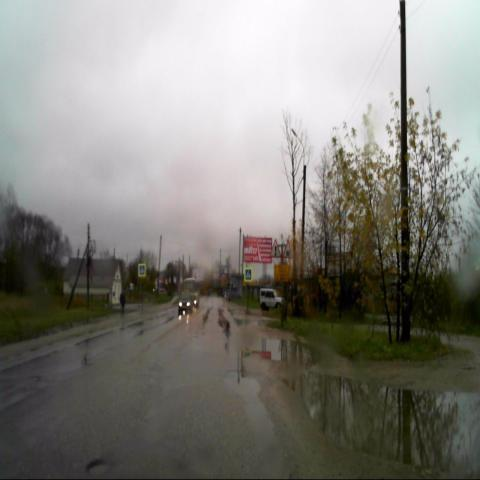1_1: (282, 238, 294, 259)
1_33: (269, 238, 282, 259)
